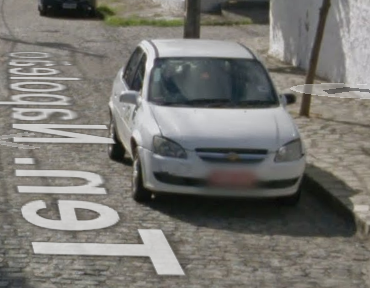car: (104, 35, 310, 220)
